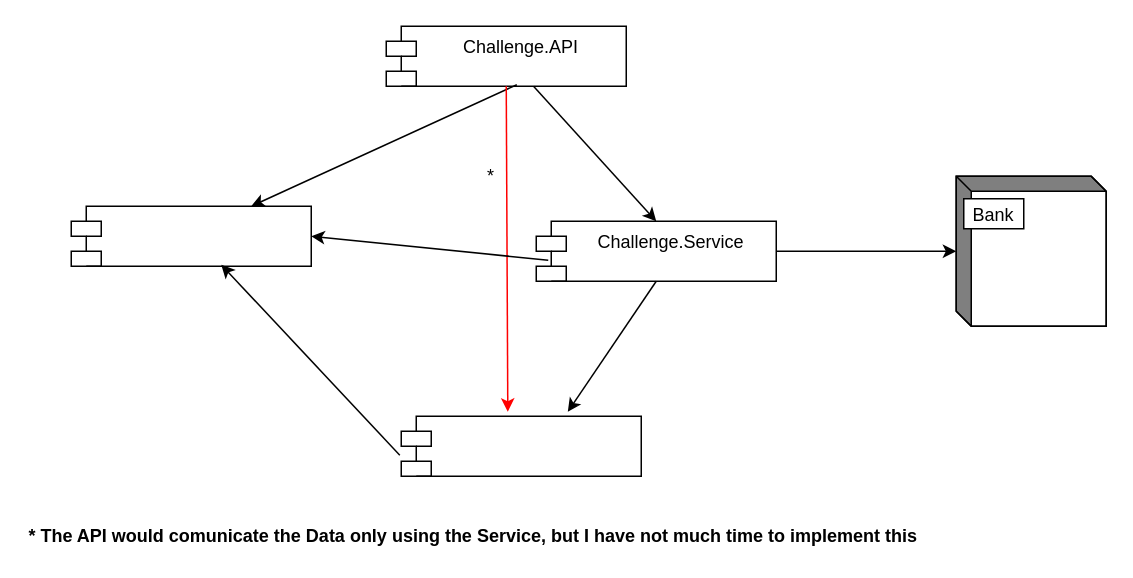
Some shapes in this 1133 by 578 pixel diagram are drawn without their labels. The shapes that lost their labels are listed below. From the top down, each one's box as (x1, y1, x2, y2) in pixels, then its label:
(70, 205, 311, 266): Challenge.Core
(400, 415, 641, 476): Challenge.Data
